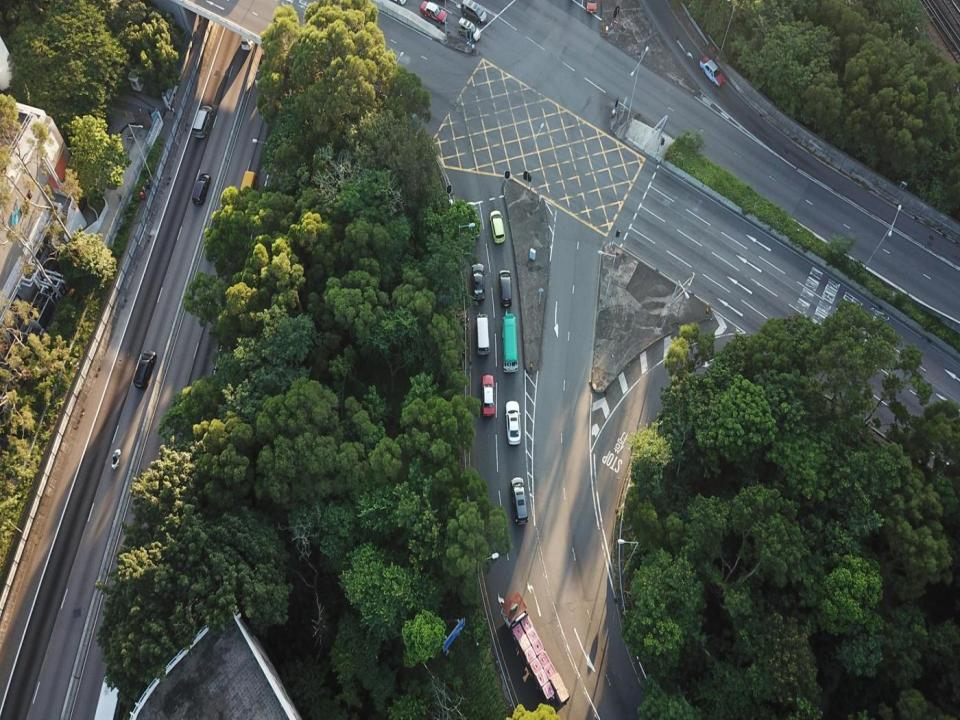car: (699, 56, 725, 86), (505, 399, 521, 446), (420, 0, 448, 25), (464, 200, 480, 239), (461, 0, 487, 24), (193, 172, 211, 206), (458, 16, 481, 41), (471, 263, 485, 303), (489, 211, 505, 242), (483, 374, 494, 417), (585, 0, 596, 15)
truck: (500, 592, 570, 711)
van: (234, 171, 258, 215), (501, 314, 518, 373), (133, 350, 156, 389), (510, 476, 528, 525), (192, 104, 212, 139), (476, 312, 490, 356), (499, 269, 512, 307), (240, 26, 255, 50)
